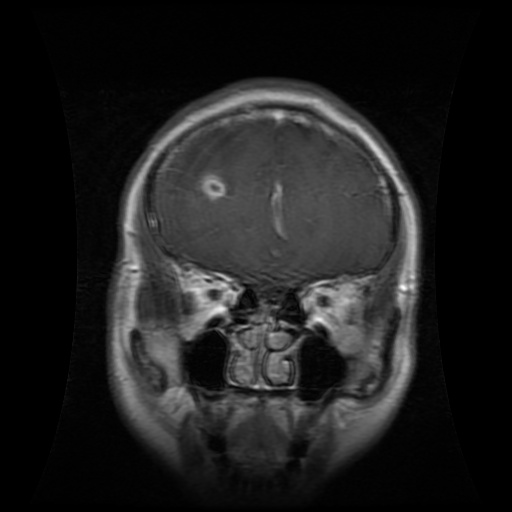glioma: (161, 123, 251, 200)
